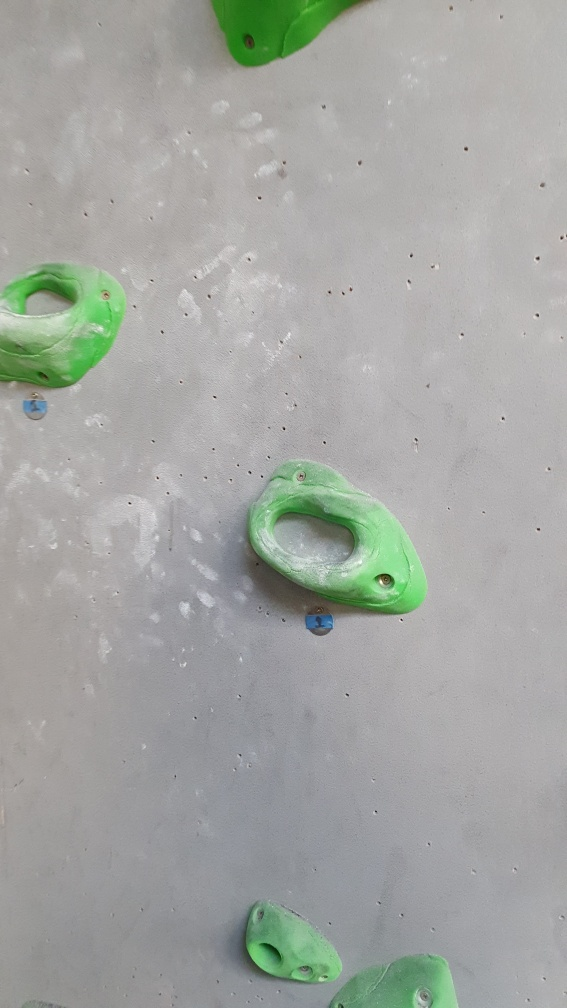Hand Start: (303, 607, 335, 636), (20, 392, 51, 420)
Pocket: (246, 457, 430, 616), (1, 260, 130, 391)
